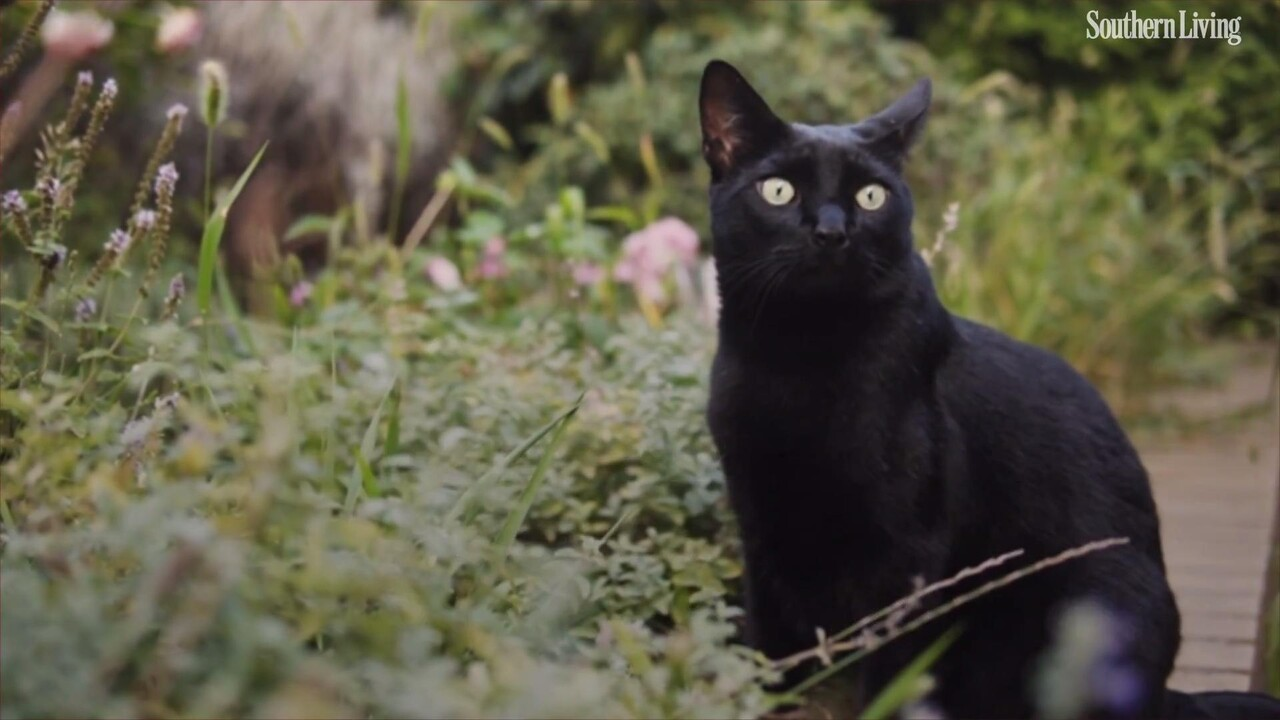cat: (696, 49, 1184, 720)
